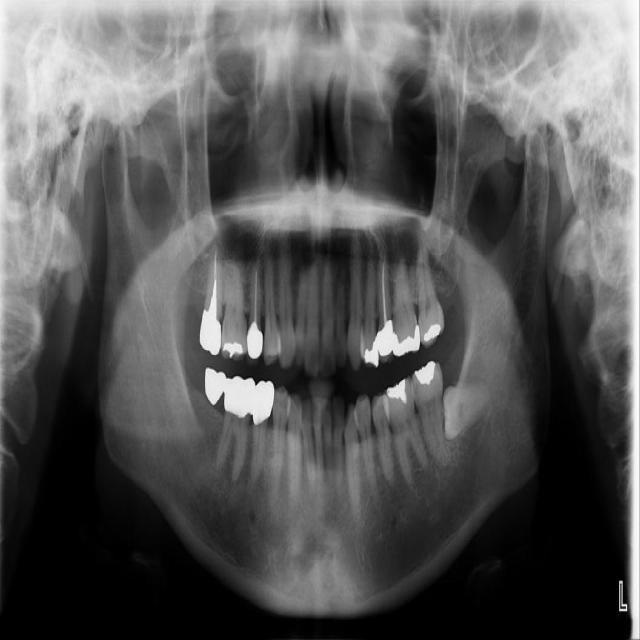52: (196, 367, 278, 429), (377, 376, 423, 428), (406, 359, 449, 412), (389, 309, 422, 359), (416, 297, 447, 349), (220, 312, 248, 360), (200, 306, 222, 356), (245, 318, 265, 366), (360, 323, 379, 368), (377, 318, 394, 364)
73: (204, 233, 225, 319), (375, 246, 392, 326), (249, 262, 264, 330), (618, 584, 624, 597)
BioHorizons Implant: (414, 223, 445, 349)
Biomet 3i Implant: (440, 382, 491, 441)
Blue Sky Bio Implant: (408, 360, 450, 467)
Caries: (199, 233, 225, 356)
